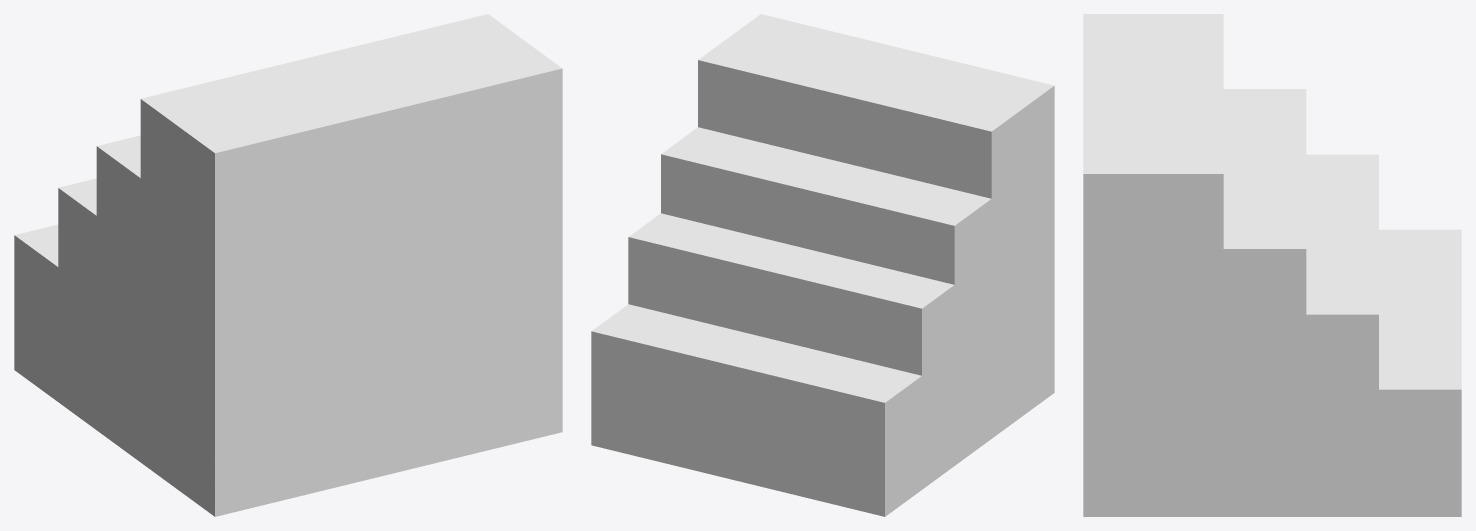
The model's file is stair.glb.
The picture shows the model from 3 angles, left to right: view 1: azimuth 30°, elevation 25°; view 2: azimuth 150°, elevation 25°; view 3: azimuth 270°, elevation 25°; orthographic projection. The views are drawn at different scales.
Parts seen in each view (by area): view 1: Cube; view 2: Cube; view 3: Cube.
Boxes of the visible parts, box(x1,y1,x2,y2) form: Cube: box(14, 14, 562, 516); Cube: box(591, 14, 1054, 516); Cube: box(1083, 14, 1461, 516).
Bounding box in the file's own units: 1.4 × 1.4 × 1.4.
1 material, 1 textured.
